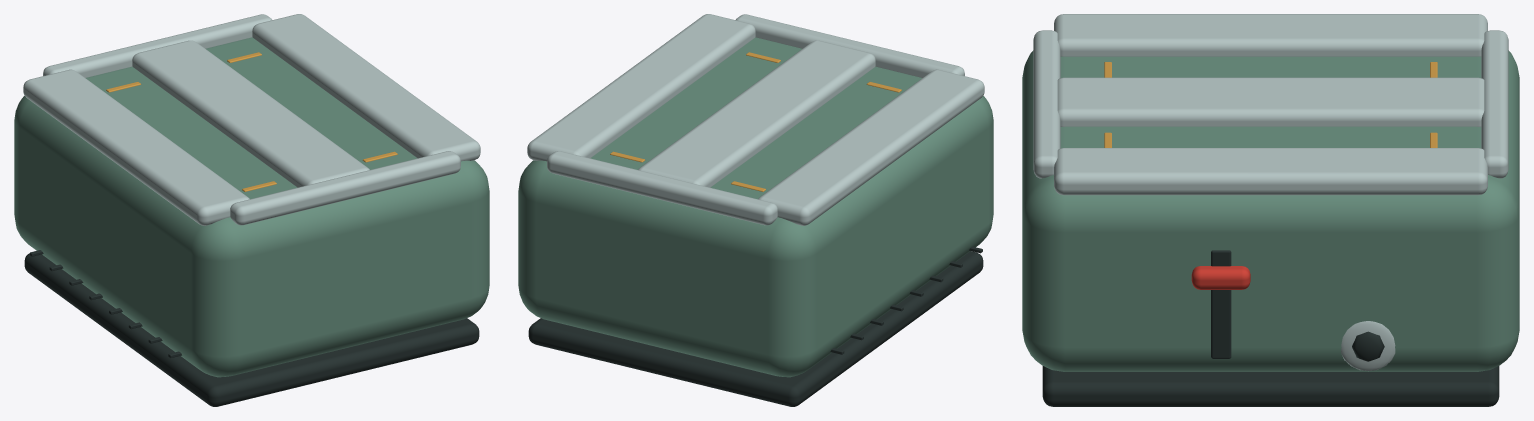
File: working-toaster.glb
3 views of the same model, side by side, from view 1: azimuth 30°, elevation 25°; view 2: azimuth 150°, elevation 25°; view 3: azimuth 270°, elevation 25° (orthographic). The views are drawn at different scales.
Parts seen in each view (by area): view 1: sage, steel, dark, brass; view 2: sage, steel, dark, brass; view 3: sage, steel, dark, red, brass.
Part boxes in pixels (bbox=[...]): sage: bbox=[14, 37, 489, 377]; steel: bbox=[23, 14, 480, 225]; dark: bbox=[24, 250, 479, 406]; brass: bbox=[106, 52, 397, 191]; sage: bbox=[518, 37, 993, 377]; steel: bbox=[527, 14, 984, 225]; dark: bbox=[528, 246, 983, 406]; brass: bbox=[610, 52, 901, 191]; sage: bbox=[1022, 50, 1519, 371]; steel: bbox=[1033, 14, 1508, 371]; dark: bbox=[1042, 250, 1499, 406]; red: bbox=[1191, 266, 1250, 289]; brass: bbox=[1104, 62, 1437, 147].
Size of the model in its own units: 1.92 by 1.19 by 2.2.
